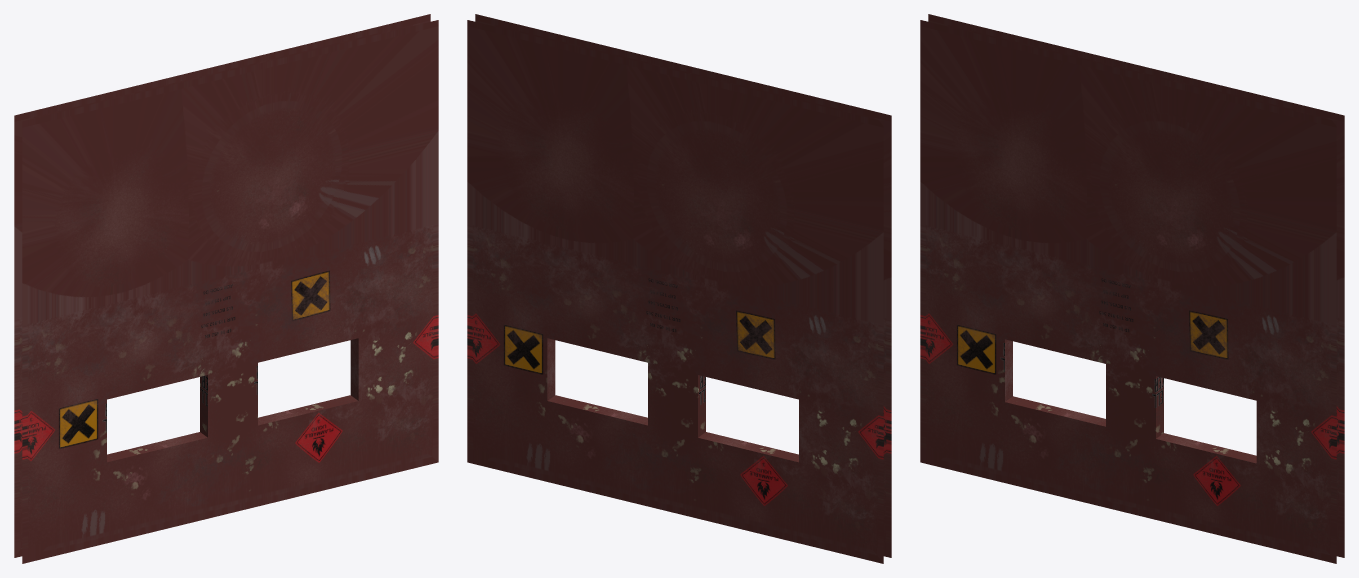
Rendered from CS_wall_large_windows.FBX.
The picture shows the model from 3 angles, left to right: view 1: azimuth 30°, elevation 25°; view 2: azimuth 150°, elevation 25°; view 3: azimuth 330°, elevation 25°; orthographic projection.
Visible parts, largest first — view 1: SM_wall_large_windows; view 2: SM_wall_large_windows; view 3: SM_wall_large_windows.
Boxes of the visible parts, left/top/right/bottom form: SM_wall_large_windows: left=14, top=14, right=438, bottom=563; SM_wall_large_windows: left=467, top=14, right=891, bottom=563; SM_wall_large_windows: left=920, top=14, right=1344, bottom=563.
Size of the model in its own units: 600 by 20 by 610.
